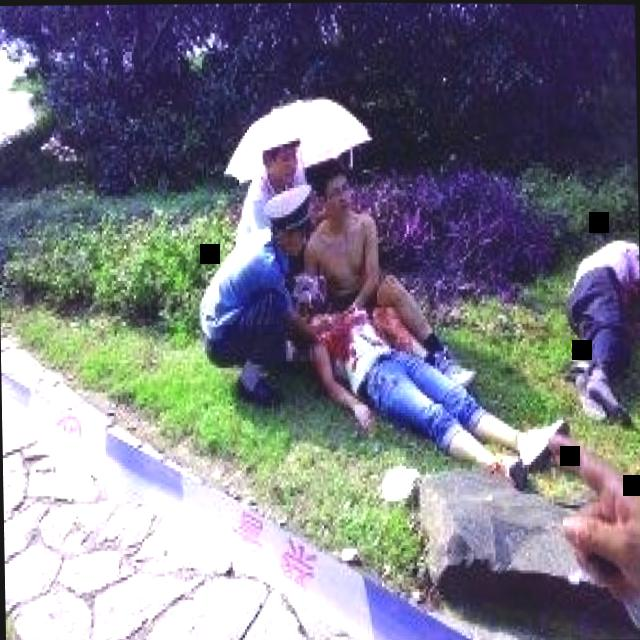Fall-Detected: (541, 214, 640, 425)
